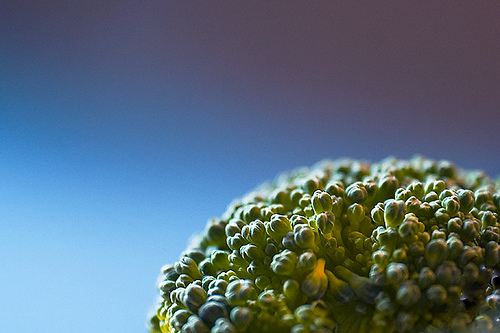broccoli: (148, 152, 497, 332)
